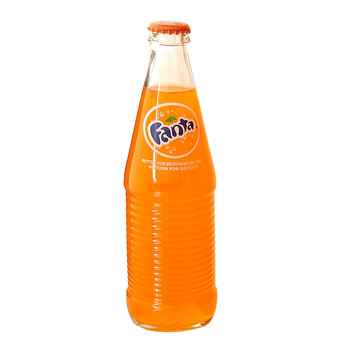fanta_bottle: (123, 19, 216, 333)
